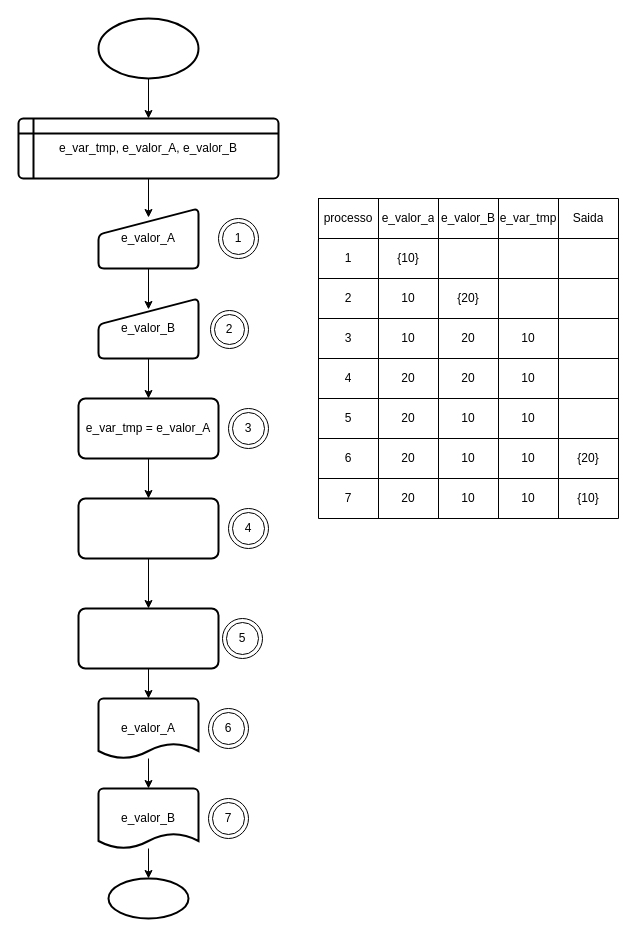
Some shapes in this 636 by 936 pixel diagram are drawn without their labels. Each missing label, with the centre of its shape:
e_valor_A = e_valorB: point 148,528
e_valor_B = e_var_tmp: point 148,638
Fim: point 148,898
Inicio: point 148,48
